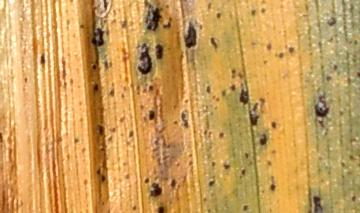tarspot: (136, 45, 152, 74), (184, 23, 198, 48), (90, 26, 105, 48), (147, 9, 161, 28), (247, 102, 259, 123), (317, 95, 329, 116), (149, 183, 163, 199), (179, 107, 189, 129), (310, 195, 322, 213), (239, 87, 249, 105), (209, 36, 218, 50), (257, 135, 268, 146), (155, 43, 163, 58), (95, 125, 106, 135), (327, 18, 339, 27), (38, 50, 45, 65), (168, 177, 176, 189), (147, 108, 155, 119), (93, 82, 100, 94), (264, 43, 273, 52), (102, 59, 110, 69), (269, 182, 276, 193), (163, 21, 173, 28), (248, 9, 256, 17), (230, 83, 237, 92), (325, 74, 332, 83), (220, 88, 227, 97), (96, 167, 102, 177), (271, 119, 277, 129), (206, 84, 212, 94), (108, 88, 114, 98), (242, 151, 249, 159), (331, 62, 338, 70), (78, 23, 86, 30), (288, 45, 294, 54), (243, 203, 249, 212), (210, 159, 216, 168), (198, 22, 204, 31), (157, 206, 164, 213), (223, 163, 230, 170), (351, 195, 358, 202), (132, 205, 139, 212), (91, 63, 97, 71), (143, 175, 149, 183), (208, 180, 216, 186), (231, 68, 237, 76), (207, 1, 212, 10), (147, 84, 153, 91), (216, 12, 222, 19), (218, 132, 224, 139), (278, 53, 285, 59), (260, 8, 267, 14), (267, 160, 273, 167), (214, 97, 220, 103), (128, 131, 133, 138), (102, 175, 107, 182), (241, 168, 246, 175), (1, 129, 3, 144), (100, 146, 105, 151), (357, 71, 360, 79)
